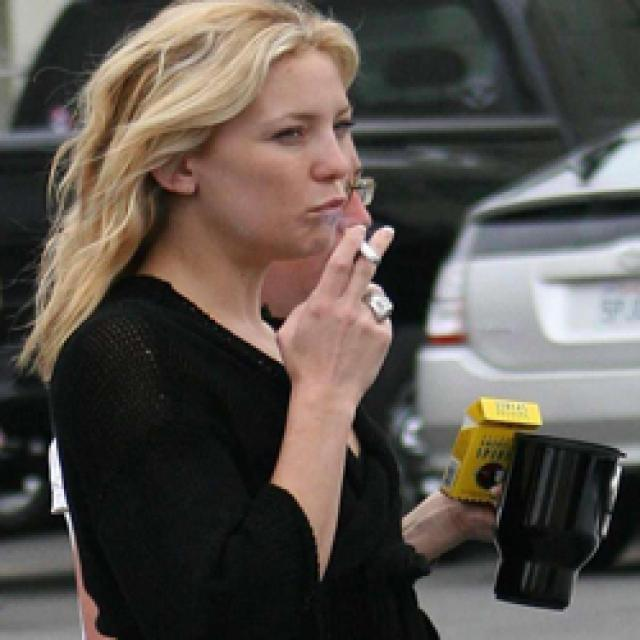Smooking: (356, 233, 384, 271)
